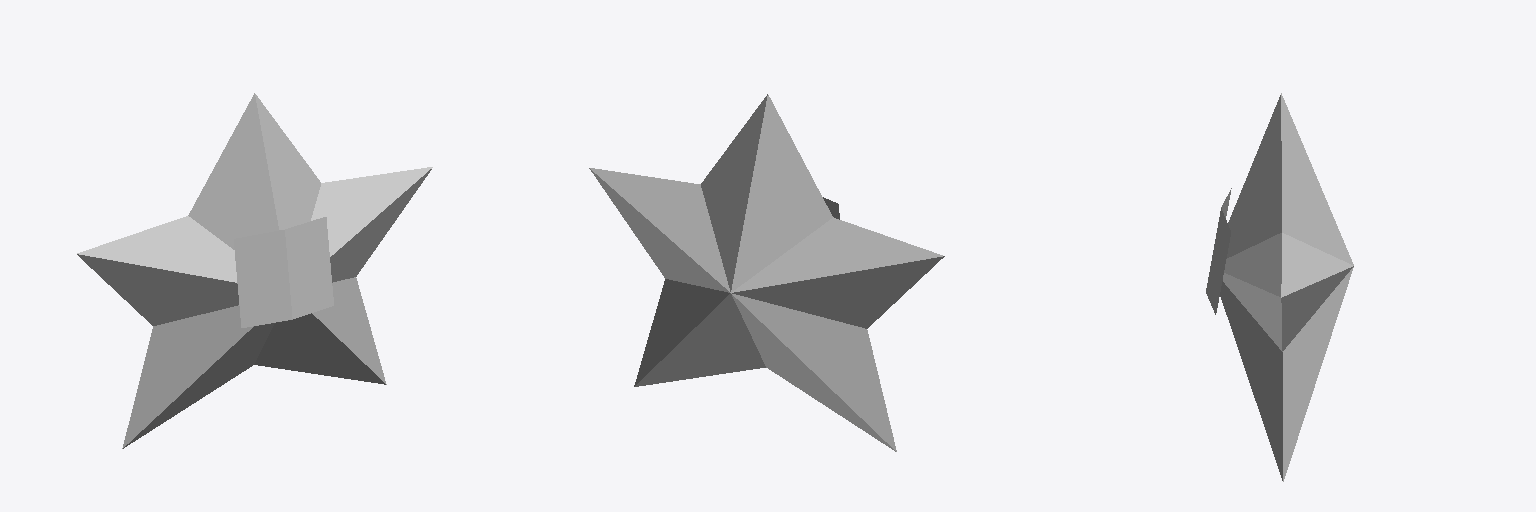
The model's file is star.obj.
The picture shows the model from 3 angles: view 1: azimuth 30°, elevation 25°; view 2: azimuth 150°, elevation 25°; view 3: azimuth 270°, elevation 25°; orthographic projection.
Parts seen in each view (by area): view 1: star; view 2: star; view 3: star.
Boxes of the visible parts, <box> form: star: <box>77,93,432,448</box>; star: <box>589,94,944,451</box>; star: <box>1206,93,1353,481</box>.
Size of the model in its own units: 3.21 by 2.8 by 1.15.